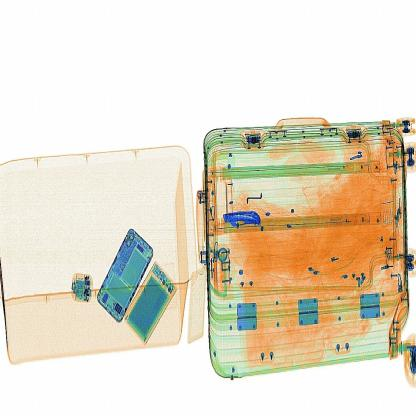knife: (221, 202, 266, 238)
